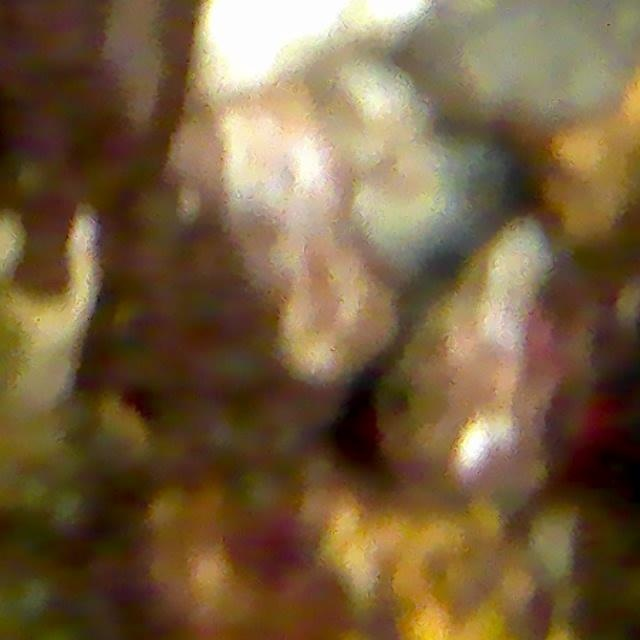SeaGrape: (201, 337, 267, 400), (130, 182, 182, 236)
